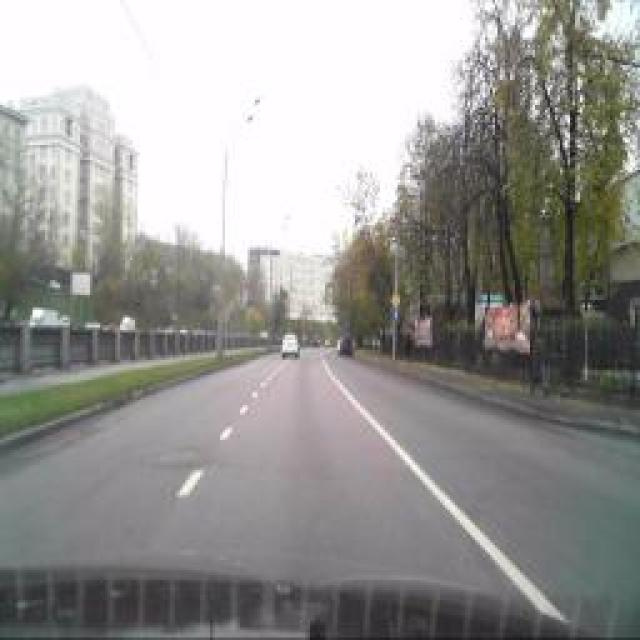sign: (391, 291, 401, 309)
